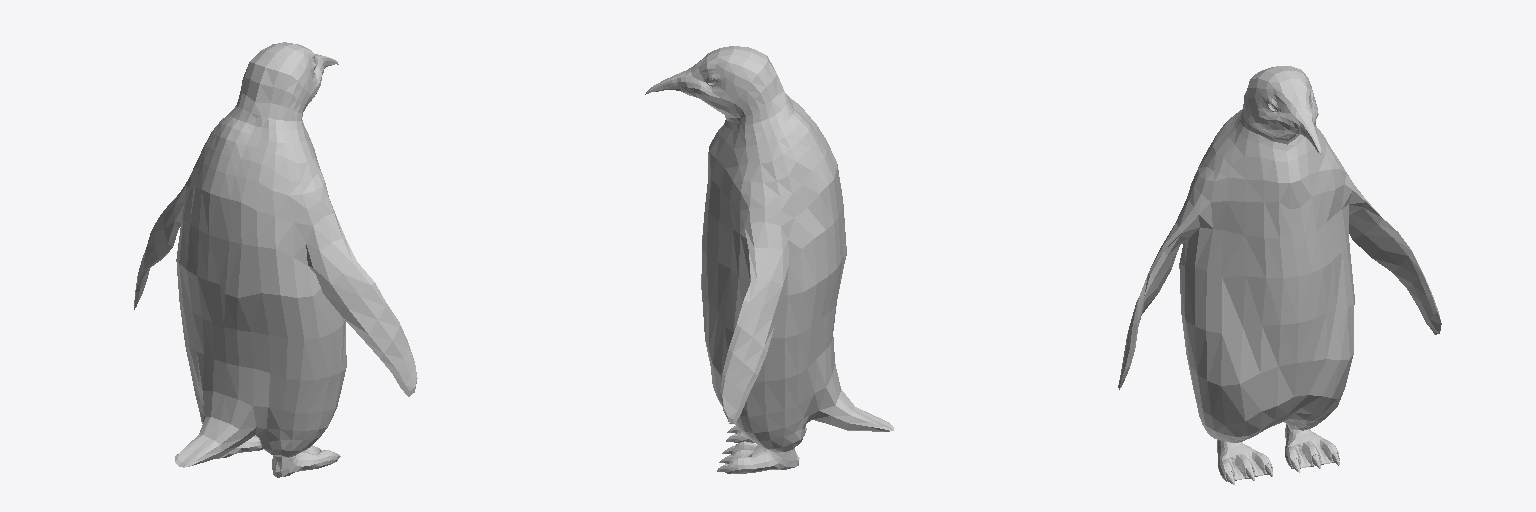
The picture shows the model from 3 angles: view 1: azimuth 30°, elevation 25°; view 2: azimuth 150°, elevation 25°; view 3: azimuth 270°, elevation 25°; orthographic projection.
Visible parts, largest first — view 1: penguin.008_penguin.010; view 2: penguin.008_penguin.010; view 3: penguin.008_penguin.010.
Boxes of the visible parts, x1,y1,x2,y2 form: penguin.008_penguin.010: [134, 42, 417, 477]; penguin.008_penguin.010: [645, 46, 893, 473]; penguin.008_penguin.010: [1118, 66, 1441, 484].
Bounding box in the file's own units: 11.88 × 22.22 × 16.22.